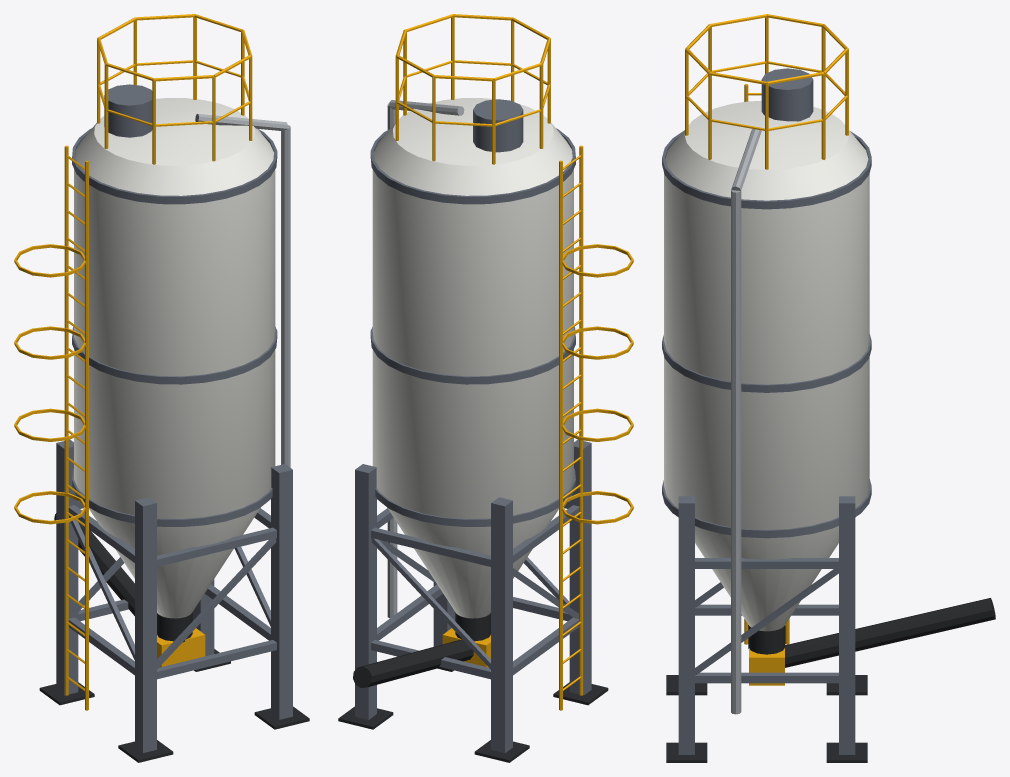
The model's file is plant.cabin.silo_small.glb.
The picture shows the model from 3 angles, left to right: view 1: azimuth 30°, elevation 25°; view 2: azimuth 150°, elevation 25°; view 3: azimuth 270°, elevation 25°; orthographic projection.
Visible parts, largest first — view 1: main__paint_white, frame__steel_painted, access__plant_yellow, main__steel_painted, main__steel_galvanised, main__steel_dark, frame__steel_dark, main__plant_yellow; view 2: main__paint_white, frame__steel_painted, access__plant_yellow, main__steel_painted, main__steel_dark, frame__steel_dark, main__steel_galvanised, main__plant_yellow; view 3: main__paint_white, frame__steel_painted, main__steel_painted, main__steel_galvanised, main__steel_dark, access__plant_yellow, frame__steel_dark, main__plant_yellow.
Part boxes in pixels (box(x1,y1,x2,y2)): main__paint_white: box(74, 98, 275, 618); frame__steel_painted: box(56, 439, 292, 752); access__plant_yellow: box(14, 14, 252, 710); main__steel_painted: box(72, 84, 277, 526); main__steel_galvanised: box(195, 114, 290, 467); main__steel_dark: box(54, 513, 192, 642); frame__steel_dark: box(39, 649, 309, 762); main__plant_yellow: box(157, 628, 205, 667); main__paint_white: box(372, 98, 573, 618); frame__steel_painted: box(355, 439, 591, 752); access__plant_yellow: box(395, 14, 633, 710); main__steel_painted: box(370, 99, 575, 526); main__steel_dark: box(353, 612, 490, 687); frame__steel_dark: box(338, 667, 608, 762); main__steel_galvanised: box(387, 100, 464, 618); main__plant_yellow: box(442, 628, 490, 667); main__paint_white: box(664, 100, 869, 631); frame__steel_painted: box(678, 496, 855, 754); main__steel_painted: box(662, 68, 871, 538); main__steel_galvanised: box(731, 129, 761, 714); main__steel_dark: box(748, 598, 995, 667); access__plant_yellow: box(685, 14, 848, 644); frame__steel_dark: box(666, 675, 867, 762); main__plant_yellow: box(749, 648, 784, 685).
Bounding box in the file's own units: 2.93 × 7.22 × 3.25.
